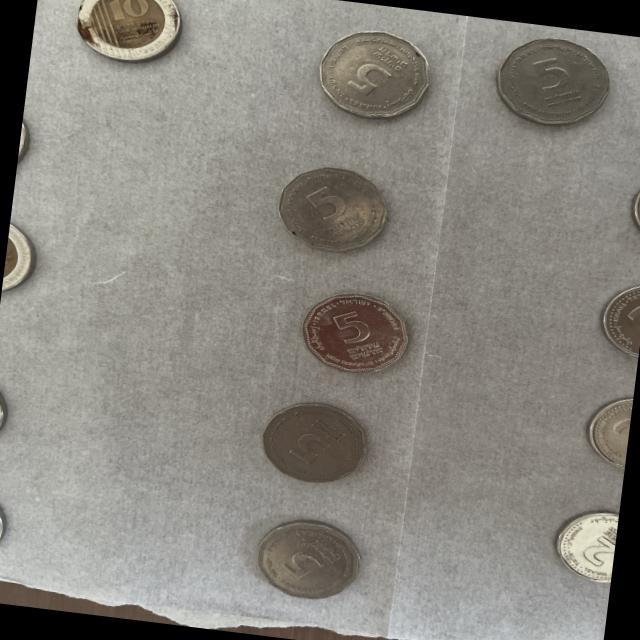10-shekel: (67, 0, 193, 66), (0, 472, 15, 570)
2-shekel: (548, 500, 620, 592), (578, 377, 635, 472)
5-shekel: (483, 28, 630, 139), (305, 18, 443, 128), (282, 282, 422, 381), (256, 392, 378, 491), (248, 508, 370, 605), (274, 164, 395, 260)
